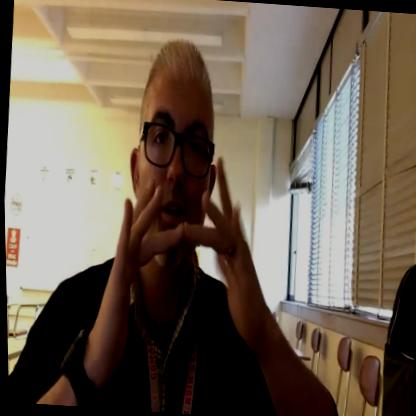Internet: (89, 140, 273, 412)
